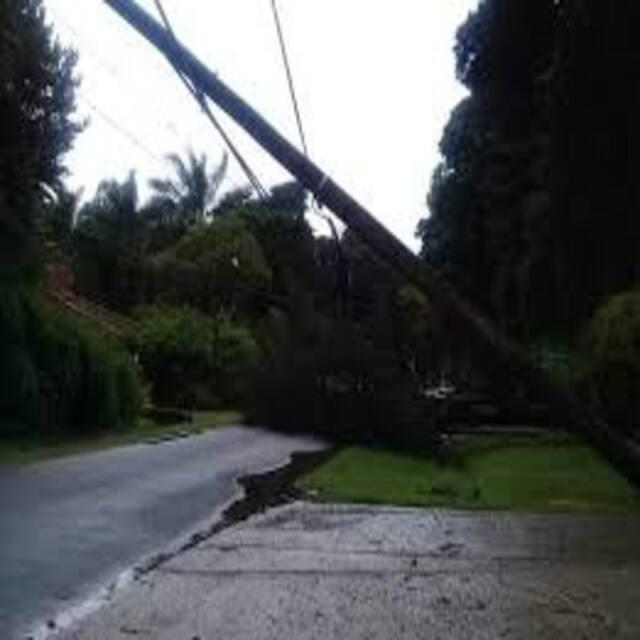Inclined Pole: (100, 0, 640, 484)
